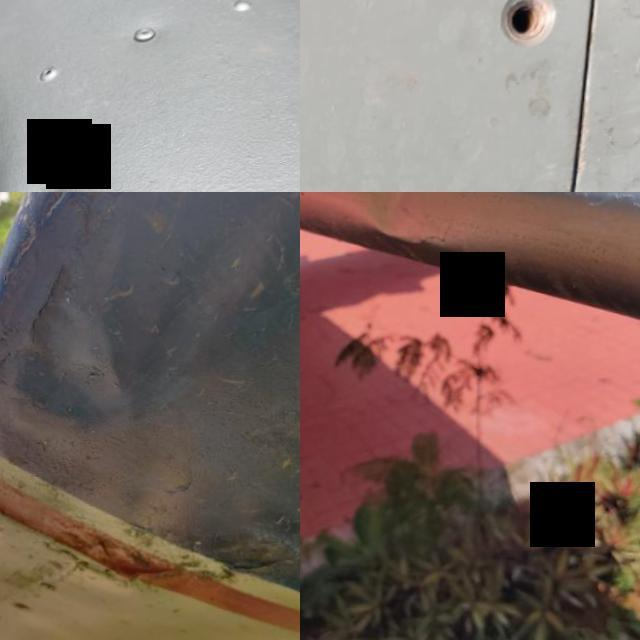Dent: (0, 249, 164, 460), (347, 192, 478, 274), (0, 146, 103, 192)
Missing_Fastener: (463, 0, 602, 86)
